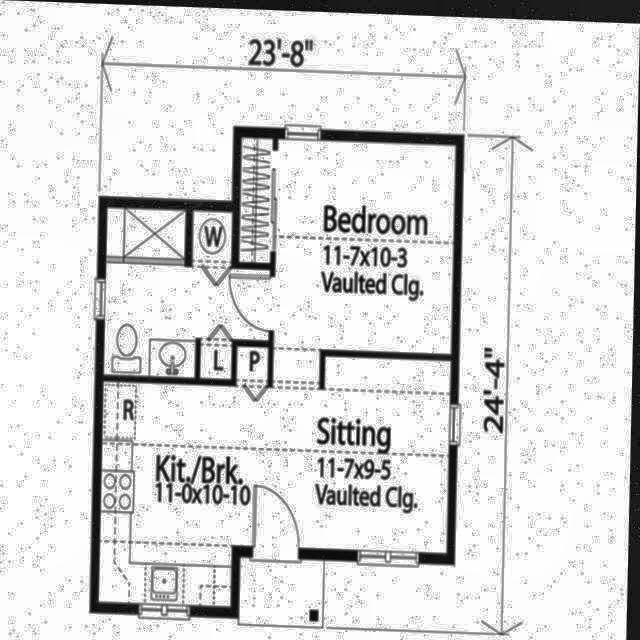room: (101, 344, 451, 606), (238, 137, 457, 349), (106, 208, 272, 377), (275, 346, 321, 381)
